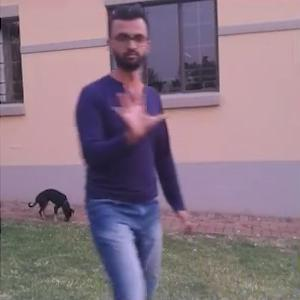follow_hand: (107, 81, 172, 139)
